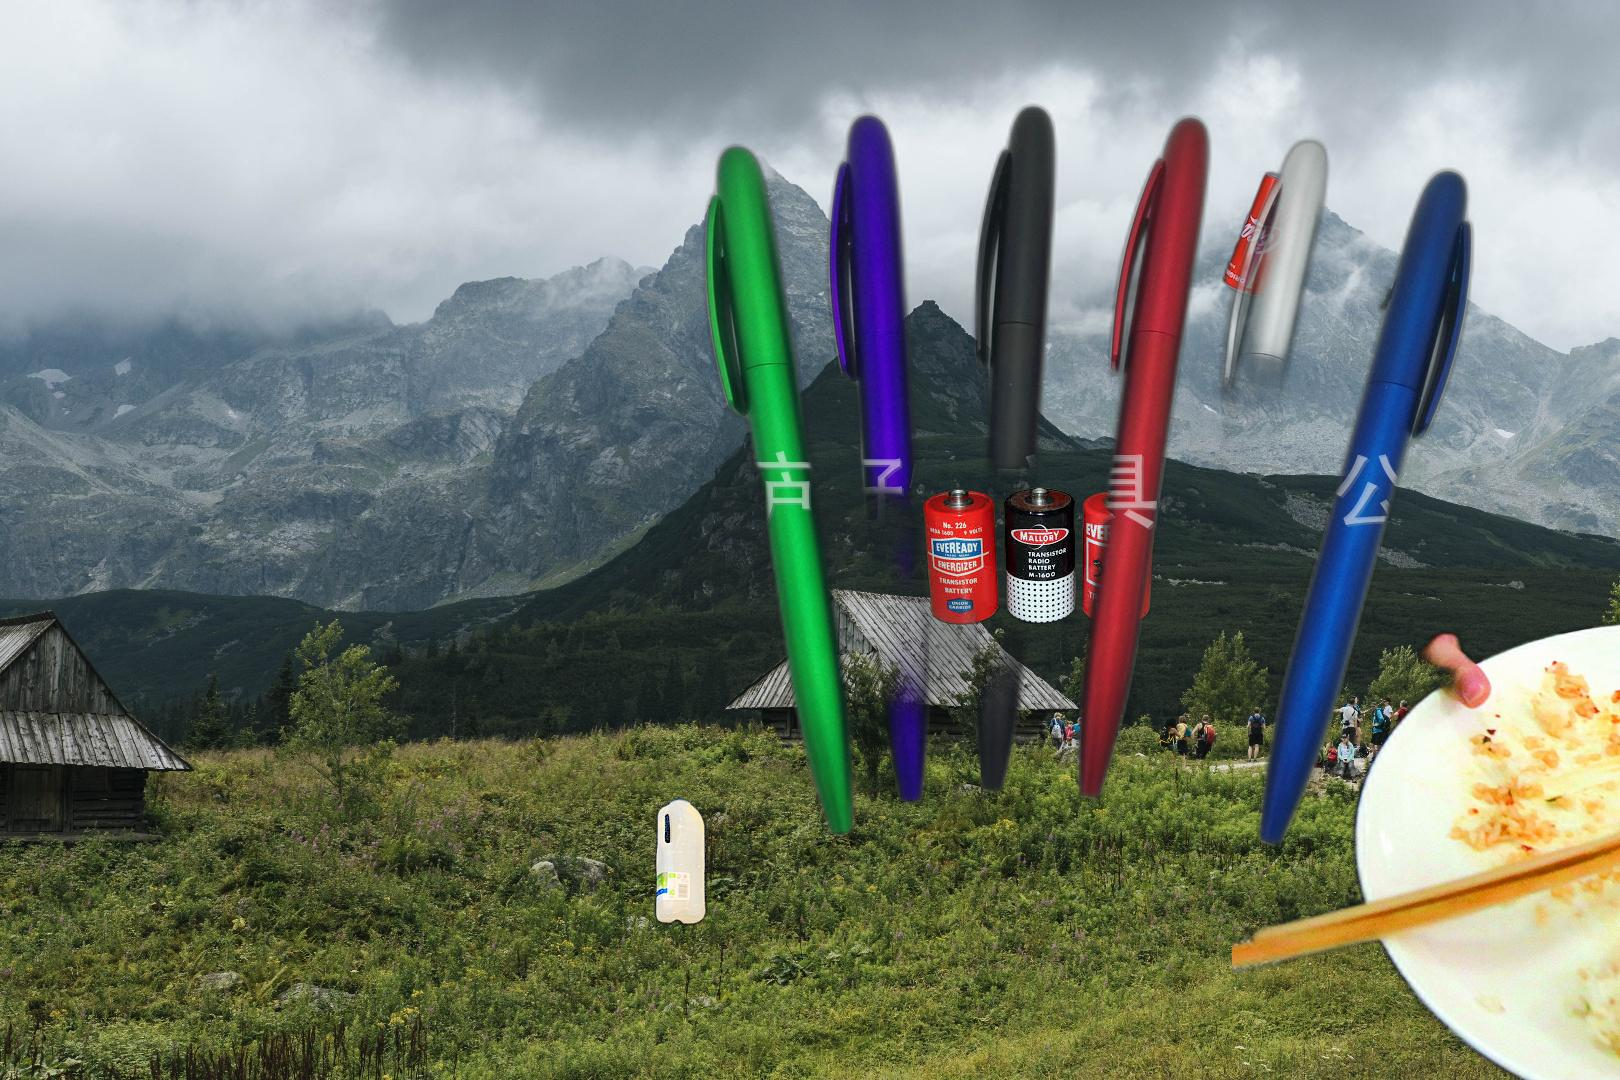battery: (920, 485, 1158, 628)
biological: (1232, 615, 1620, 1080)
metal-cans: (1217, 166, 1618, 548)
penholder: (695, 96, 1530, 979)
plastic-bottles: (651, 793, 711, 931)
